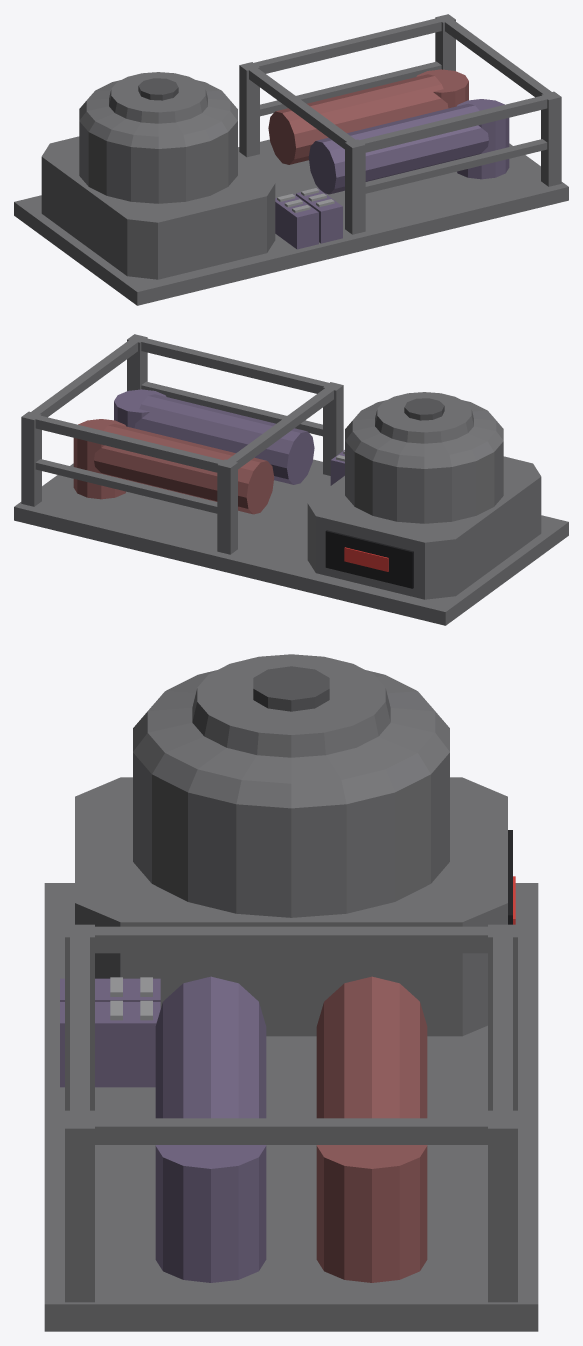
The model's file is vge_e_astrofuel_synthesizer.obj.
The picture shows the model from 3 angles, top to bottom: view 1: azimuth 30°, elevation 25°; view 2: azimuth 150°, elevation 25°; view 3: azimuth 270°, elevation 25°; orthographic projection. The views are drawn at different scales.
Parts seen in each view (by area): view 1: vge_astrofuel_synthesizer_0, vge_astrofuel_synthesizer_1, vge_astrofuel_synthesizer_2, vge_astrofuel_synthesizer_24, vge_astrofuel_synthesizer_26, vge_astrofuel_synthesizer_20, vge_astrofuel_synthesizer_18, vge_astrofuel_synthesizer_19, vge_astrofuel_synthesizer_14, vge_astrofuel_synthesizer_22, vge_astrofuel_synthesizer_16, vge_astrofuel_synthesizer_23 (+8 smaller); view 2: vge_astrofuel_synthesizer_0, vge_astrofuel_synthesizer_2, vge_astrofuel_synthesizer_1, vge_astrofuel_synthesizer_26, vge_astrofuel_synthesizer_24, vge_astrofuel_synthesizer_4, vge_astrofuel_synthesizer_18, vge_astrofuel_synthesizer_20, vge_astrofuel_synthesizer_21, vge_astrofuel_synthesizer_15, vge_astrofuel_synthesizer_22, vge_astrofuel_synthesizer_17 (+8 smaller); view 3: vge_astrofuel_synthesizer_0, vge_astrofuel_synthesizer_2, vge_astrofuel_synthesizer_1, vge_astrofuel_synthesizer_25, vge_astrofuel_synthesizer_27, vge_astrofuel_synthesizer_24, vge_astrofuel_synthesizer_26, vge_astrofuel_synthesizer_22, vge_astrofuel_synthesizer_23, vge_astrofuel_synthesizer_17, vge_astrofuel_synthesizer_16, vge_astrofuel_synthesizer_10 (+6 smaller).
Boxes of the visible parts, <box> form: vge_astrofuel_synthesizer_0: <box>14,139,568,305</box>; vge_astrofuel_synthesizer_1: <box>41,136,275,279</box>; vge_astrofuel_synthesizer_2: <box>79,72,237,203</box>; vge_astrofuel_synthesizer_24: <box>268,74,448,164</box>; vge_astrofuel_synthesizer_26: <box>308,103,488,194</box>; vge_astrofuel_synthesizer_20: <box>247,17,447,73</box>; vge_astrofuel_synthesizer_18: <box>359,95,553,152</box>; vge_astrofuel_synthesizer_19: <box>365,139,547,193</box>; vge_astrofuel_synthesizer_14: <box>345,139,365,234</box>; vge_astrofuel_synthesizer_22: <box>245,66,358,149</box>; vge_astrofuel_synthesizer_16: <box>541,91,561,186</box>; vge_astrofuel_synthesizer_23: <box>442,17,555,97</box>; vge_astrofuel_synthesizer_0: <box>14,459,568,625</box>; vge_astrofuel_synthesizer_2: <box>345,392,503,523</box>; vge_astrofuel_synthesizer_1: <box>307,456,541,599</box>; vge_astrofuel_synthesizer_26: <box>134,394,314,484</box>; vge_astrofuel_synthesizer_24: <box>94,423,274,514</box>; vge_astrofuel_synthesizer_4: <box>325,530,413,588</box>; vge_astrofuel_synthesizer_18: <box>136,337,335,393</box>; vge_astrofuel_synthesizer_20: <box>29,415,223,472</box>; vge_astrofuel_synthesizer_21: <box>35,459,217,513</box>; vge_astrofuel_synthesizer_15: <box>217,459,237,554</box>; vge_astrofuel_synthesizer_22: <box>224,387,336,469</box>; vge_astrofuel_synthesizer_17: <box>21,411,41,506</box>; vge_astrofuel_synthesizer_0: <box>44,883,538,1331</box>; vge_astrofuel_synthesizer_2: <box>133,654,449,917</box>; vge_astrofuel_synthesizer_1: <box>75,777,507,1036</box>; vge_astrofuel_synthesizer_25: <box>316,1145,427,1282</box>; vge_astrofuel_synthesizer_27: <box>155,1145,266,1282</box>; vge_astrofuel_synthesizer_24: <box>316,976,427,1118</box>; vge_astrofuel_synthesizer_26: <box>155,976,266,1118</box>; vge_astrofuel_synthesizer_22: <box>80,926,502,953</box>; vge_astrofuel_synthesizer_23: <box>95,1118,501,1144</box>; vge_astrofuel_synthesizer_17: <box>488,1116,517,1302</box>; vge_astrofuel_synthesizer_16: <box>65,1116,94,1302</box>; vge_astrofuel_synthesizer_10: <box>60,1002,160,1087</box>.
Bounding box in the file's own units: 3.96 × 1.35 × 1.96.
